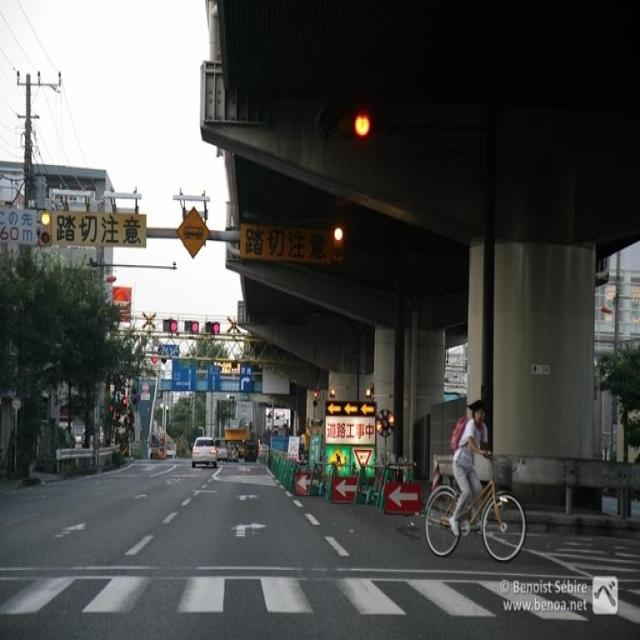red light: (162, 319, 178, 332), (185, 322, 201, 335), (208, 324, 220, 334)
